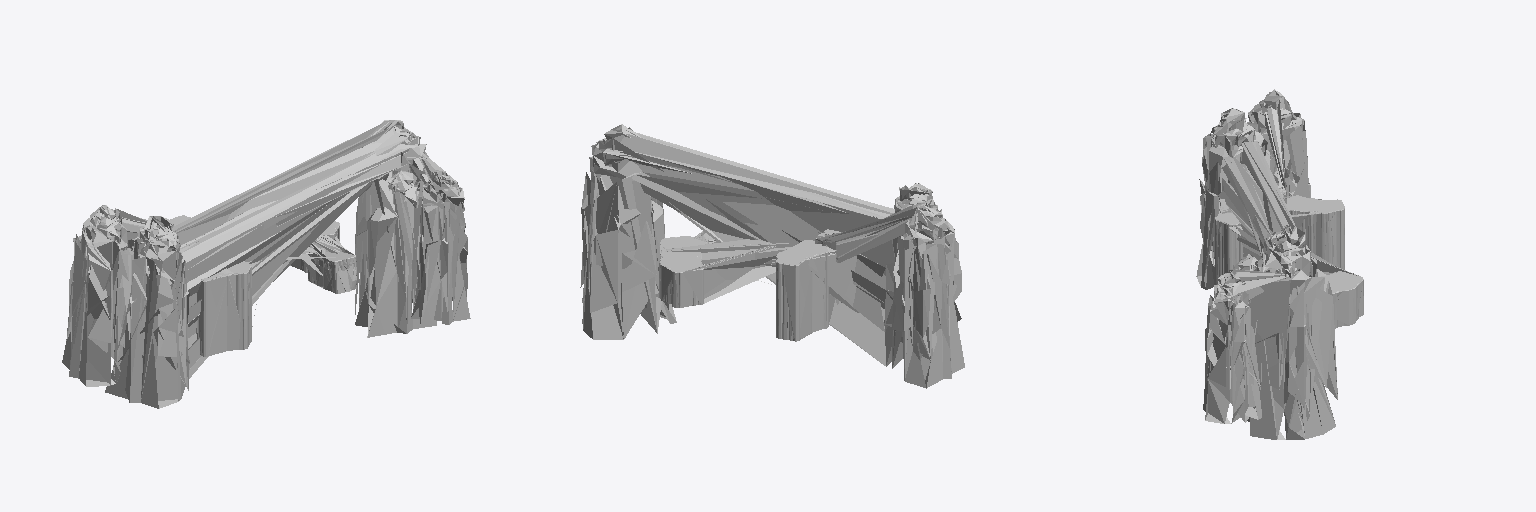
The model's file is cellSlimulationQuarry_Onsen_Proxy-sharedassets3.assets-672.obj.
3 views of the same model, side by side, from view 1: azimuth 30°, elevation 25°; view 2: azimuth 150°, elevation 25°; view 3: azimuth 270°, elevation 25° (orthographic).
Parts seen in each view (by area): view 1: cellSlimulationQuarry_Onsen_Proxy_0, cellSlimulationQuarry_Onsen_Proxy_3, cellSlimulationQuarry_Onsen_Proxy_1, cellSlimulationQuarry_Onsen_Proxy_2; view 2: cellSlimulationQuarry_Onsen_Proxy_0, cellSlimulationQuarry_Onsen_Proxy_1, cellSlimulationQuarry_Onsen_Proxy_3, cellSlimulationQuarry_Onsen_Proxy_2; view 3: cellSlimulationQuarry_Onsen_Proxy_0, cellSlimulationQuarry_Onsen_Proxy_3, cellSlimulationQuarry_Onsen_Proxy_1, cellSlimulationQuarry_Onsen_Proxy_2.
Boxes of the visible parts, x1,y1,x2,y2 form: cellSlimulationQuarry_Onsen_Proxy_0: [62, 120, 470, 408]; cellSlimulationQuarry_Onsen_Proxy_3: [170, 215, 356, 356]; cellSlimulationQuarry_Onsen_Proxy_1: [170, 217, 356, 356]; cellSlimulationQuarry_Onsen_Proxy_2: [182, 215, 356, 355]; cellSlimulationQuarry_Onsen_Proxy_0: [580, 124, 964, 388]; cellSlimulationQuarry_Onsen_Proxy_1: [659, 232, 827, 340]; cellSlimulationQuarry_Onsen_Proxy_3: [659, 231, 828, 341]; cellSlimulationQuarry_Onsen_Proxy_2: [660, 236, 835, 340]; cellSlimulationQuarry_Onsen_Proxy_0: [1196, 89, 1362, 439]; cellSlimulationQuarry_Onsen_Proxy_3: [1215, 197, 1363, 327]; cellSlimulationQuarry_Onsen_Proxy_1: [1215, 196, 1362, 328]; cellSlimulationQuarry_Onsen_Proxy_2: [1215, 195, 1362, 325].
Size of the model in its own units: 201 by 102 by 78.42.